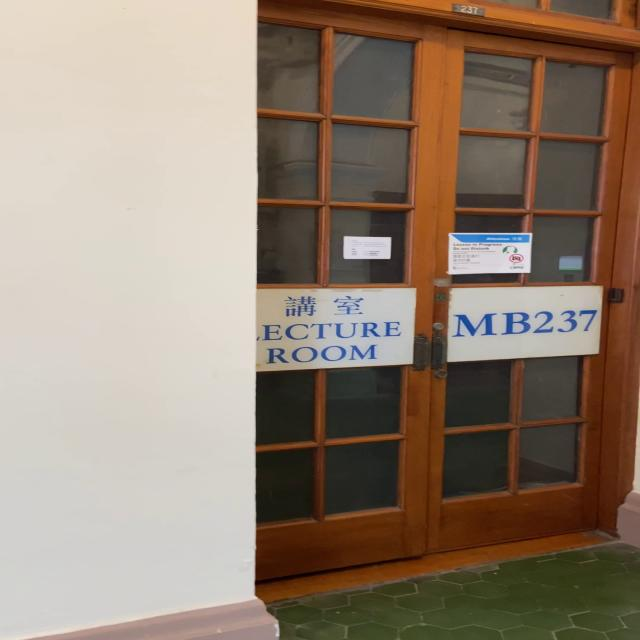room237Window: (452, 286, 600, 353)
